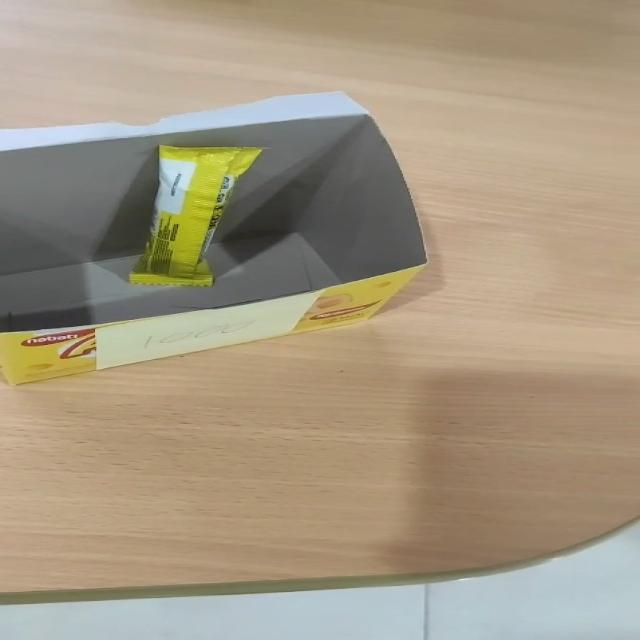Ahh: (126, 143, 264, 288)
